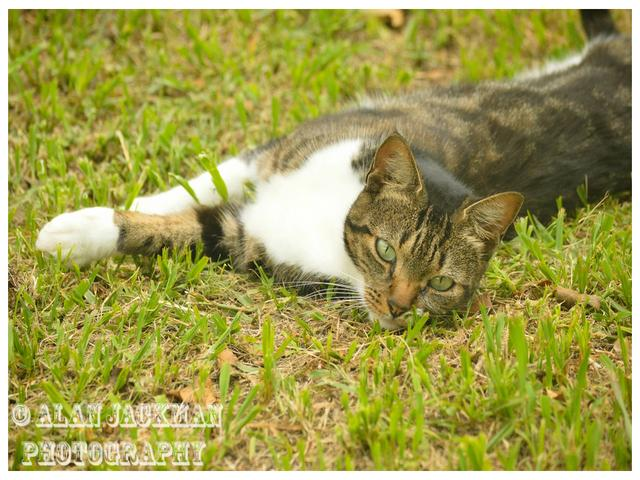cat: (53, 71, 548, 339)
